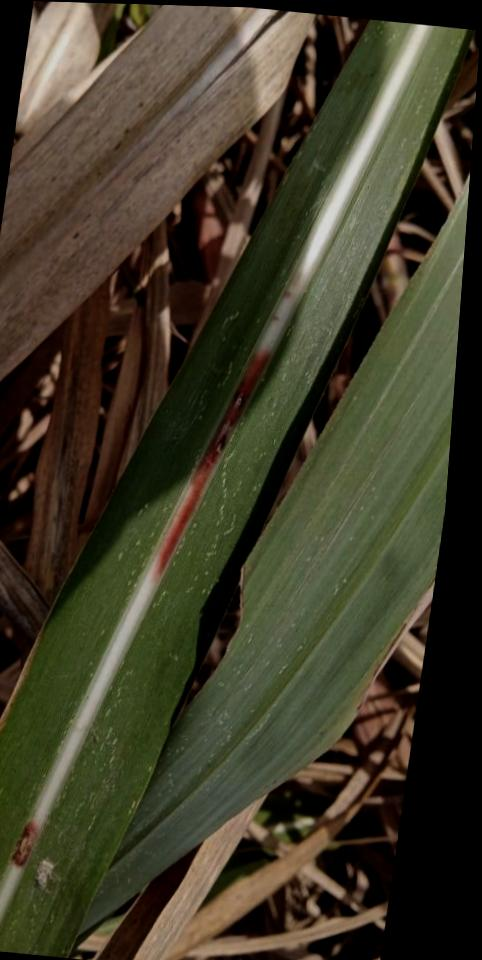RedRot: (149, 351, 273, 581), (8, 817, 41, 874)
